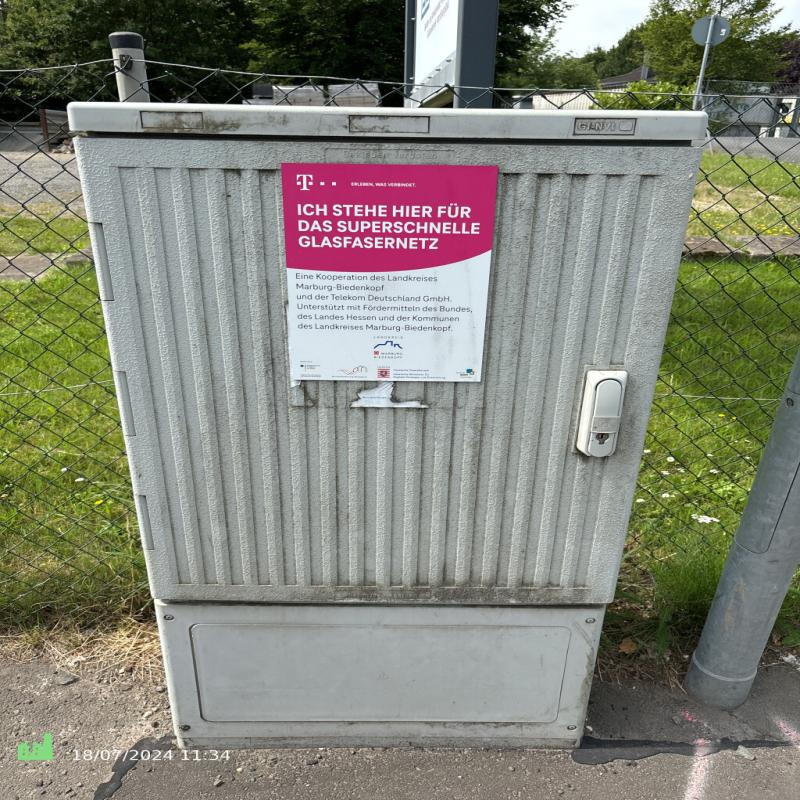NT-Gehause: (67, 103, 699, 748)
Steaker: (279, 164, 490, 383)
